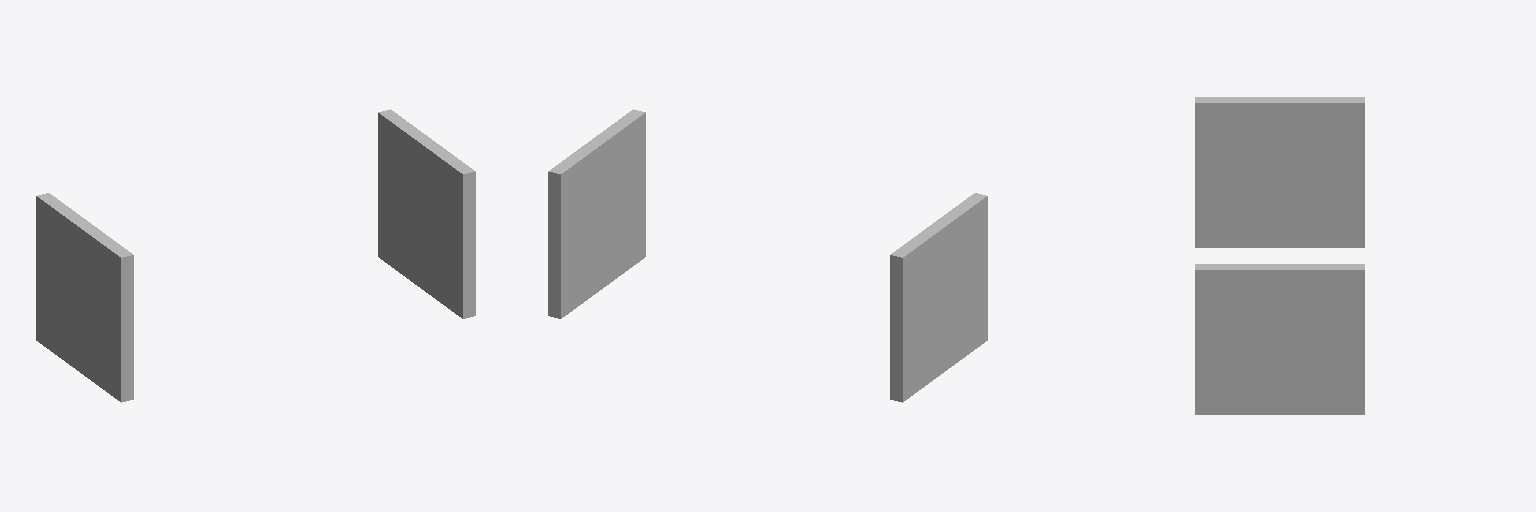
Rendered from desk_legs_1.obj.
3 renders of one model, left to right at view 1: azimuth 30°, elevation 25°; view 2: azimuth 150°, elevation 25°; view 3: azimuth 270°, elevation 25°, orthographic.
Bounding box in the file's own units: 16.62 × 6.48 × 6.89.